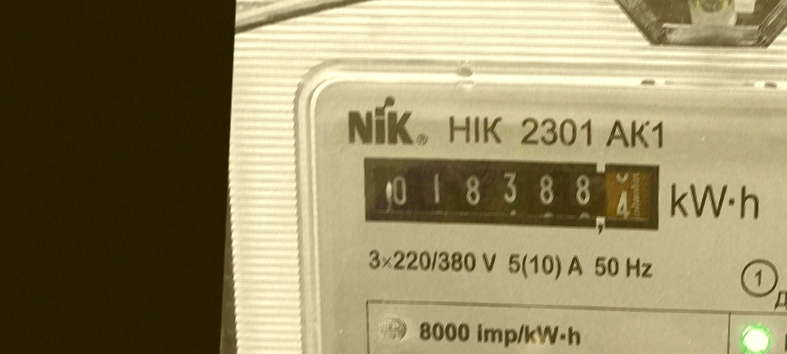0: (389, 171, 411, 208)
1: (428, 167, 447, 205)
3: (501, 169, 522, 205)
4: (613, 186, 635, 220)
8: (463, 170, 485, 207), (573, 170, 595, 207), (537, 171, 558, 207)
screen: (353, 141, 675, 246)
